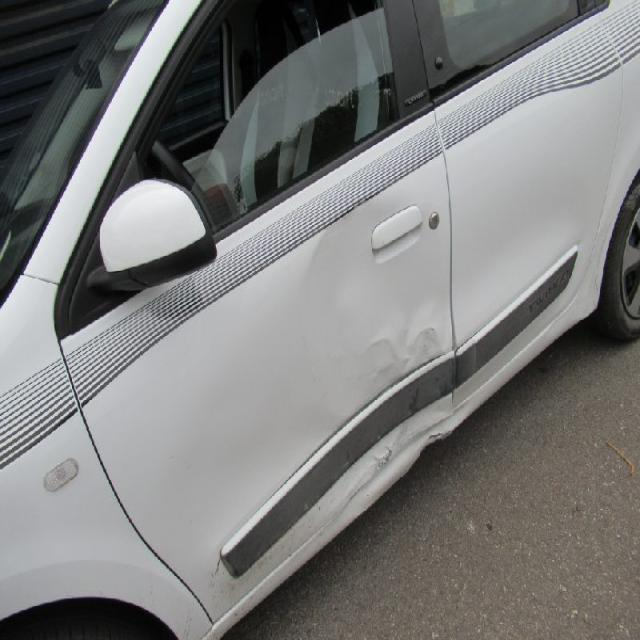porte-avant: (54, 0, 457, 616)
